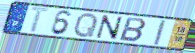6: (49, 9, 73, 36)
B: (118, 16, 148, 43)
I: (152, 19, 168, 46)
N: (95, 14, 124, 41)
Q: (72, 12, 99, 39)
T: (29, 6, 53, 34)
